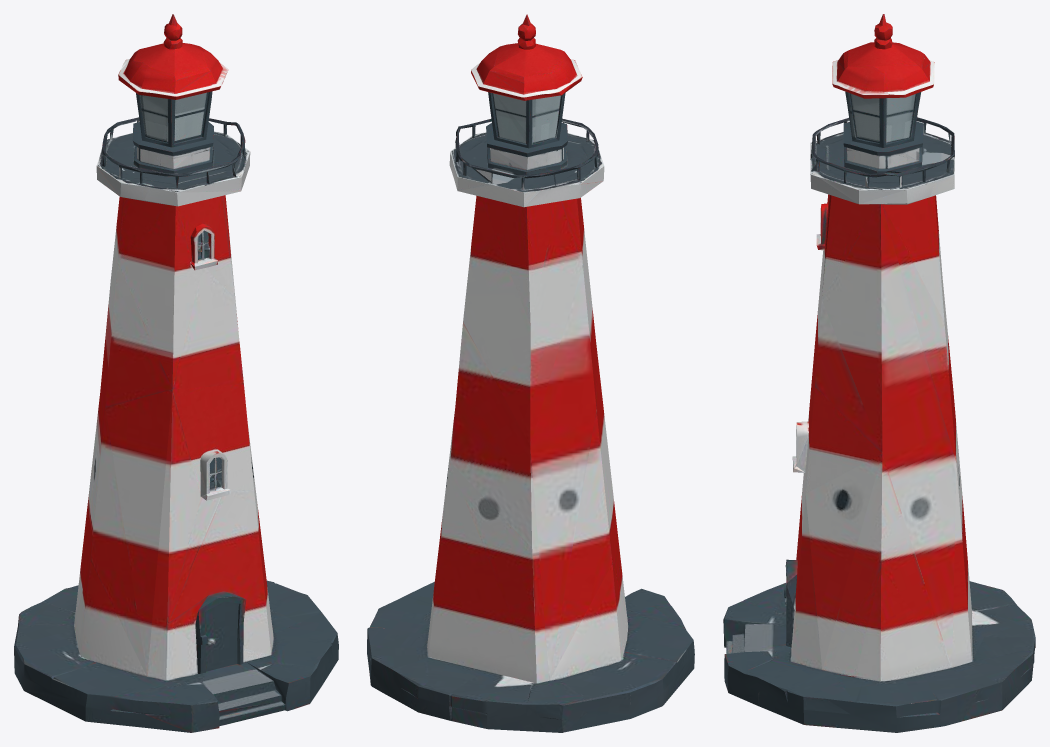
Rendered from lighthouse.glb.
3 renders of one model, left to right at view 1: azimuth 30°, elevation 25°; view 2: azimuth 150°, elevation 25°; view 3: azimuth 270°, elevation 25°, orthographic.
Size of the model in its own units: 0.8711 by 1.9 by 0.8275.
1 material, 1 textured.
